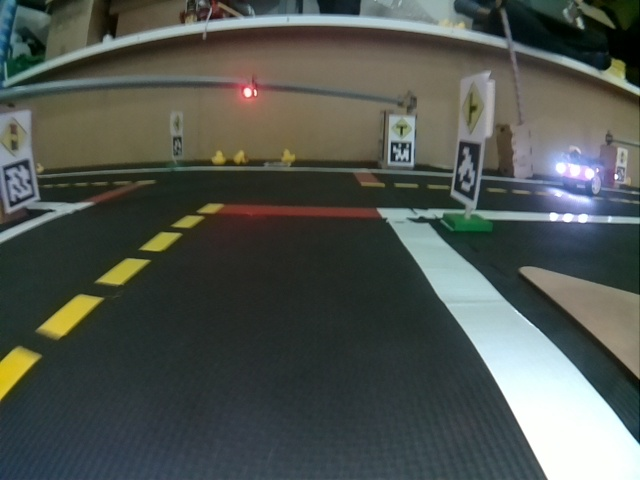Duckie: (212, 151, 225, 165), (234, 152, 249, 164), (281, 150, 295, 160)
Duckiebot: (557, 154, 604, 194)
Intersection sign: (460, 81, 486, 133), (391, 117, 411, 139), (173, 114, 181, 134)
QR code: (451, 140, 483, 200), (5, 160, 36, 208), (388, 141, 412, 166), (172, 137, 182, 156)
Signal sign: (1, 117, 31, 154)
Traffic light: (242, 79, 258, 100)
